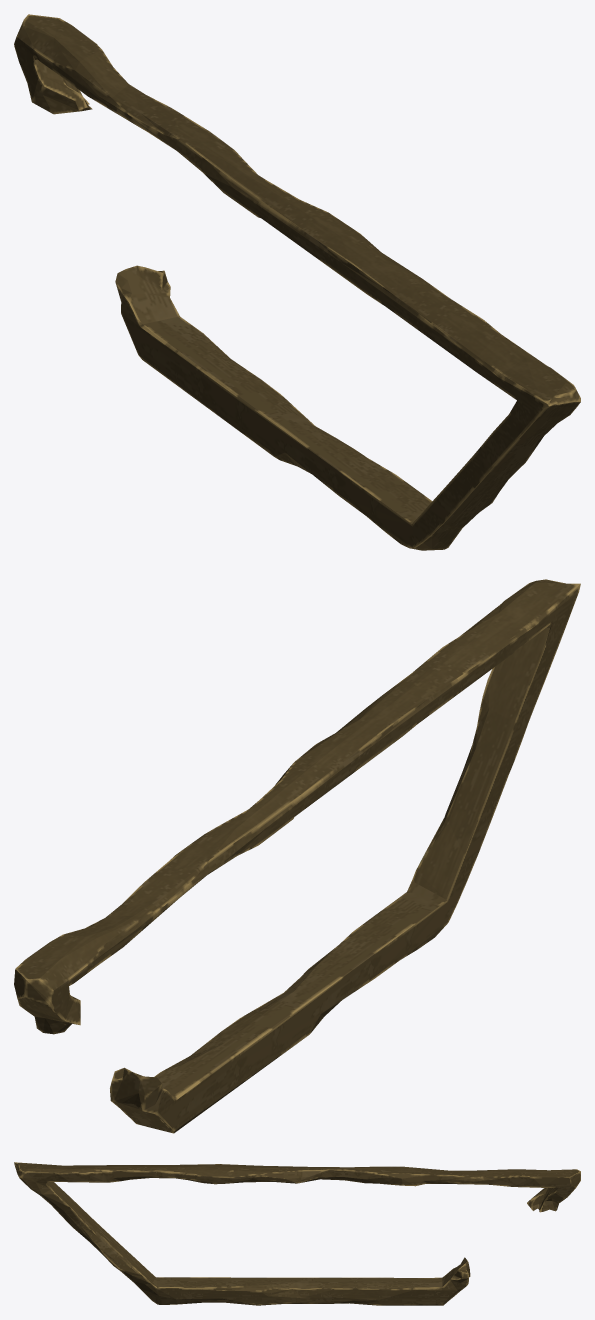
Rendered from Beam_damaged.fbx.
3 views of the same model, one above another, from view 1: azimuth 30°, elevation 25°; view 2: azimuth 150°, elevation 25°; view 3: azimuth 270°, elevation 25° (orthographic). The views are drawn at different scales.
Parts seen in each view (by area): view 1: Cylinder.002; view 2: Cylinder.002; view 3: Cylinder.002.
Boxes of the visible parts, box(x1,y1,x2,y2) form: Cylinder.002: box(14, 14, 580, 550); Cylinder.002: box(14, 579, 580, 1133); Cylinder.002: box(14, 1162, 580, 1305).
Size of the model in its own units: 99.2 by 467 by 1770.
